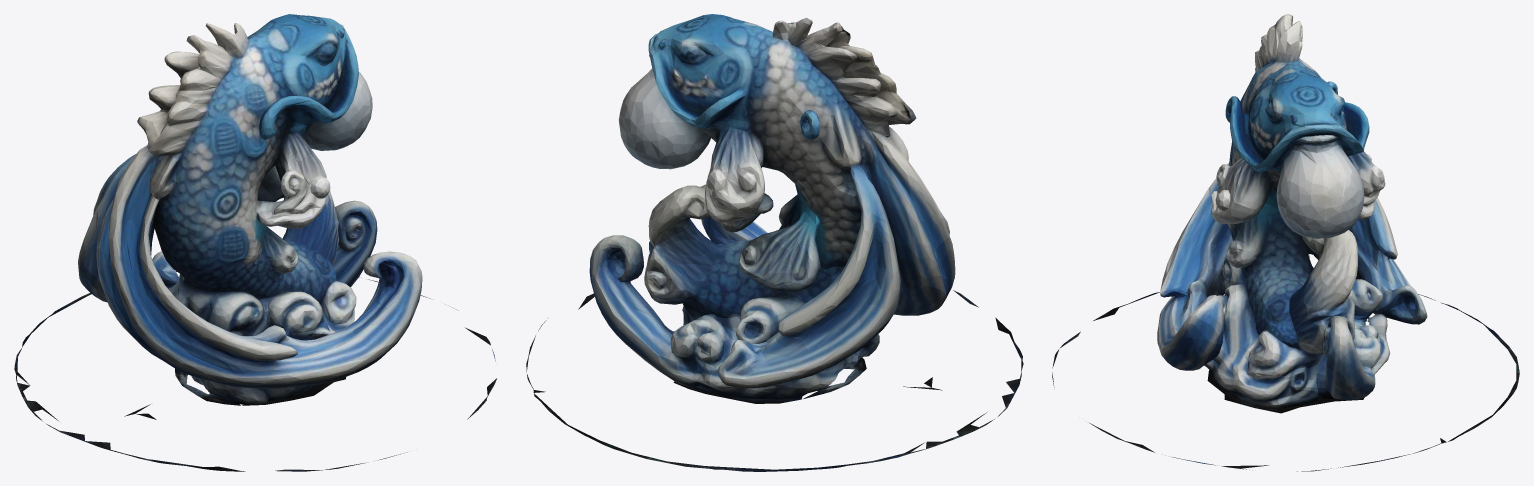
File: glimmerkoi__tideKoi.glb
3 renders of one model, left to right at view 1: azimuth 30°, elevation 25°; view 2: azimuth 150°, elevation 25°; view 3: azimuth 270°, elevation 25°, orthographic. The views are drawn at different scales.
Parts seen in each view (by area): view 1: world; view 2: world; view 3: world.
Part boxes in pixels (x1,y1,x2,y2): world: (14,14,496,471); world: (526,14,1023,471); world: (1052,14,1519,471).
Bounding box in the file's own units: 0.9994 × 0.7872 × 1.
1 material, 1 textured.
